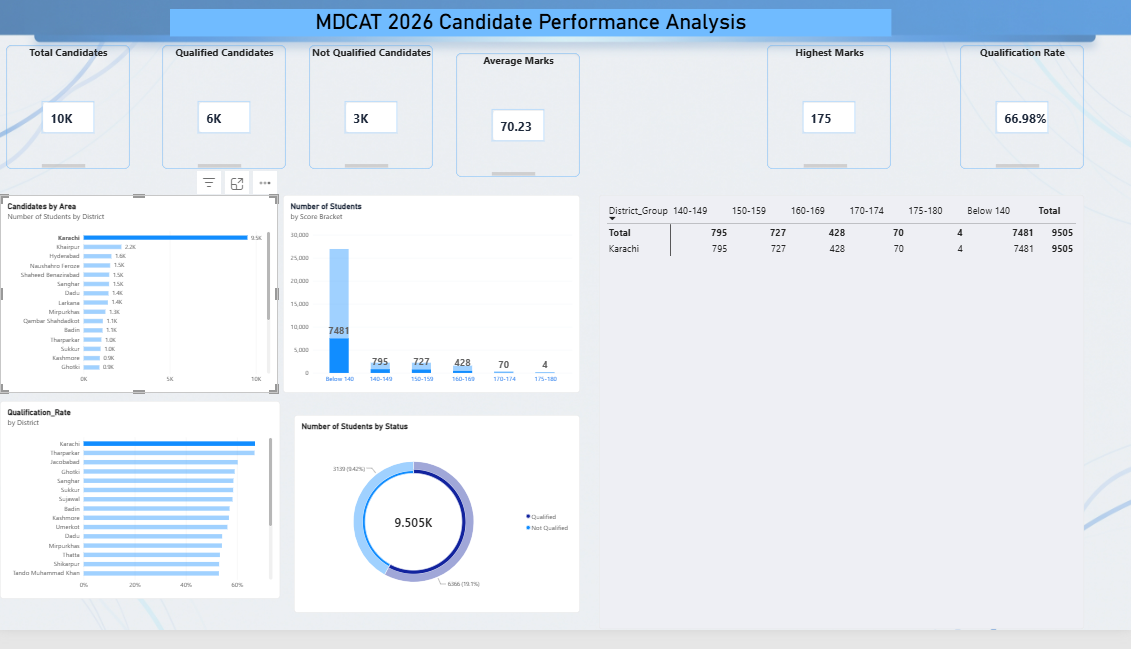

The page's visual inventory and layout, read from the dashboard file:
{"tool":"powerbi","page":{"name":"Page 1","canvas":[2560,1440],"ordinal":0},"visuals":[{"type":"cardVisual","title":"Total Candidates","fields":{"Data":["Count(MDCAT_Result_2026.Seat No)"]},"box":[17.8,119.1,280,280],"z":0},{"type":"textbox","title":"MDCAT 2026 Candidate Performance Analysis","box":[388.6,38.4,1630.2,62.2],"z":1000},{"type":"cardVisual","title":"Qualified Candidates ","fields":{"Data":["MDCAT_Result_2026.Qualified Candidates"]},"box":[369.7,119.1,280,280],"z":2000},{"type":"cardVisual","title":"Highest Marks ","fields":{"Data":["MDCAT_Result_2026.Highest Marks"]},"box":[1738.4,119.9,280,280],"z":3000},{"type":"cardVisual","title":"Not Qualified Candidates","fields":{"Data":["MDCAT_Result_2026.Not Qualified Candidates"]},"box":[701.8,119.1,280,280],"z":4000},{"type":"cardVisual","title":"Qualification Rate","fields":{"Data":["MDCAT_Result_2026.Qualification_Rate"]},"box":[2174.1,119.9,280,280],"z":6000},{"type":"clusteredColumnChart","fields":{"Category":["MDCAT_Result_2026.Score Bracket"],"Y":["CountNonNull(MDCAT_Result_2026.Seat No)"]},"box":[644,458.7,671,447],"z":10000},{"type":"clusteredBarChart","title":"Candidates by Area","fields":{"Category":["MDCAT_Result_2026.District_Group"],"Y":["CountNonNull(MDCAT_Result_2026.Seat No)"]},"box":[4.5,458.7,628.1,447.4],"z":10003},{"type":"clusteredBarChart","fields":{"Category":["MDCAT_Result_2026.District_Group"],"Y":["MDCAT_Result_2026.Qualification_Rate"]},"box":[4.5,924.1,632.7,447.4],"z":10004},{"type":"donutChart","title":"Number of Students by Status","fields":{"Category":["MDCAT_Result_2026.Qualification_Status"],"Y":["Count(MDCAT_Result_2026.Seat No)"]},"box":[668.8,955.8,646.2,447.4],"z":10005},{"type":"pivotTable","fields":{"Columns":["MDCAT_Result_2026.Score Bracket"],"Rows":["MDCAT_Result_2026.District_Group"],"Values":["Count(MDCAT_Result_2026.Seat No)"]},"box":[1358,458.7,1095.9,980.6],"z":10006},{"type":"cardVisual","title":"Average Marks","fields":{"Data":["Avg(MDCAT_Result_2026.Obtained Marks)"]},"box":[1034.8,137.8,280,280],"z":10007}]}

Visuals, with their boxes in screenshot pixels (x1, y1, x2, y2), scaled from the page's 2560x1440 canvas onto the 1131x649 screenshot:
"Total Candidates" cardVisual: rect(8, 54, 132, 180)
"MDCAT 2026 Candidate Performance Analysis" textbox: rect(172, 17, 892, 45)
"Qualified Candidates " cardVisual: rect(163, 54, 287, 180)
"Highest Marks " cardVisual: rect(768, 54, 892, 180)
"Not Qualified Candidates" cardVisual: rect(310, 54, 434, 180)
"Qualification Rate" cardVisual: rect(961, 54, 1084, 180)
clusteredColumnChart - MDCAT_Result_2026.Score Bracket x CountNonNull(MDCAT_Result_2026.Seat No): rect(285, 207, 581, 408)
"Candidates by Area" clusteredBarChart: rect(2, 207, 279, 408)
clusteredBarChart - MDCAT_Result_2026.District_Group x MDCAT_Result_2026.Qualification_Rate: rect(2, 416, 282, 618)
"Number of Students by Status" donutChart: rect(295, 431, 581, 632)
pivotTable - MDCAT_Result_2026.Score Bracket x MDCAT_Result_2026.District_Group: rect(600, 207, 1084, 648)
"Average Marks" cardVisual: rect(457, 62, 581, 188)
